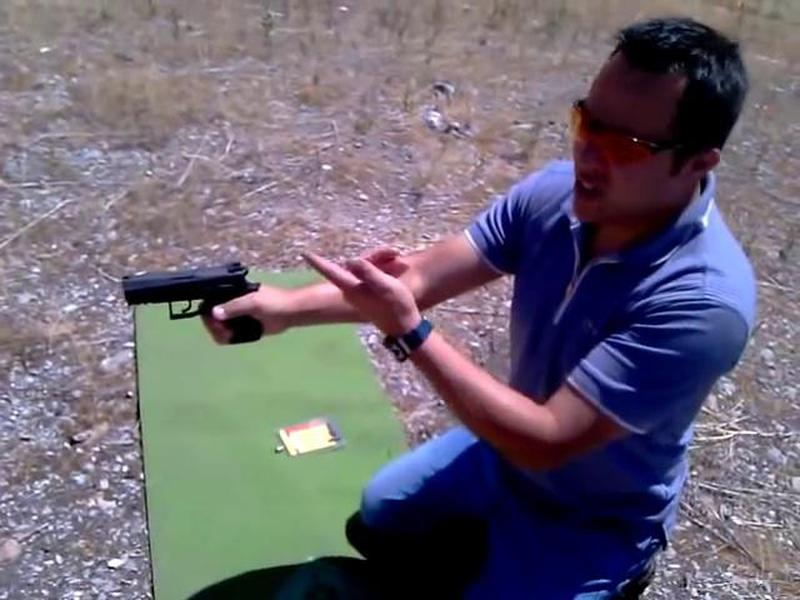Pistola: (112, 258, 277, 350)
